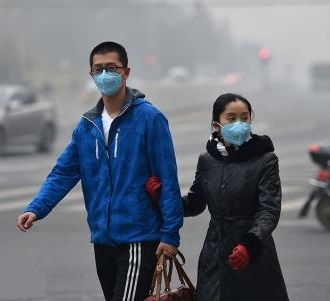person: (17, 38, 188, 301), (146, 89, 295, 301)
